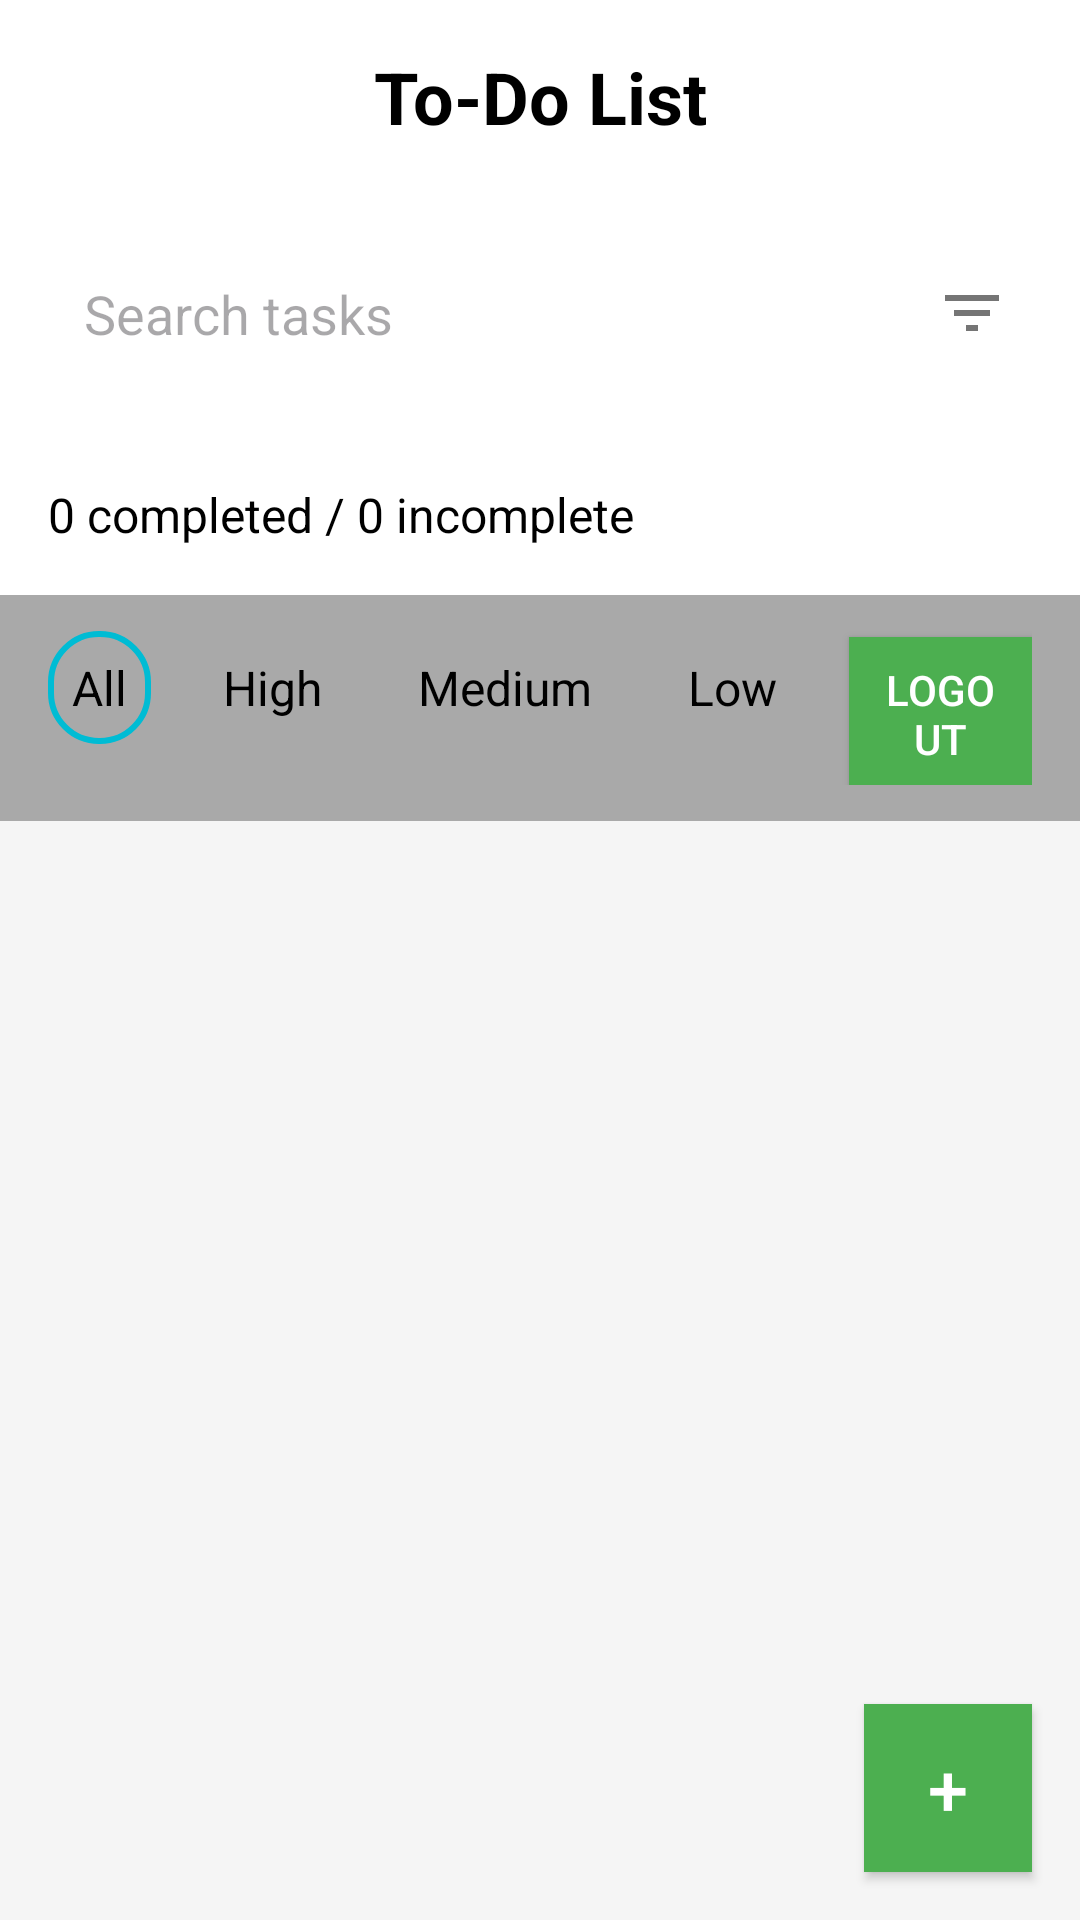

Icon click points for this 1080×1920 phone screenshot, format point (x, y):
Filter: point (972, 313)
